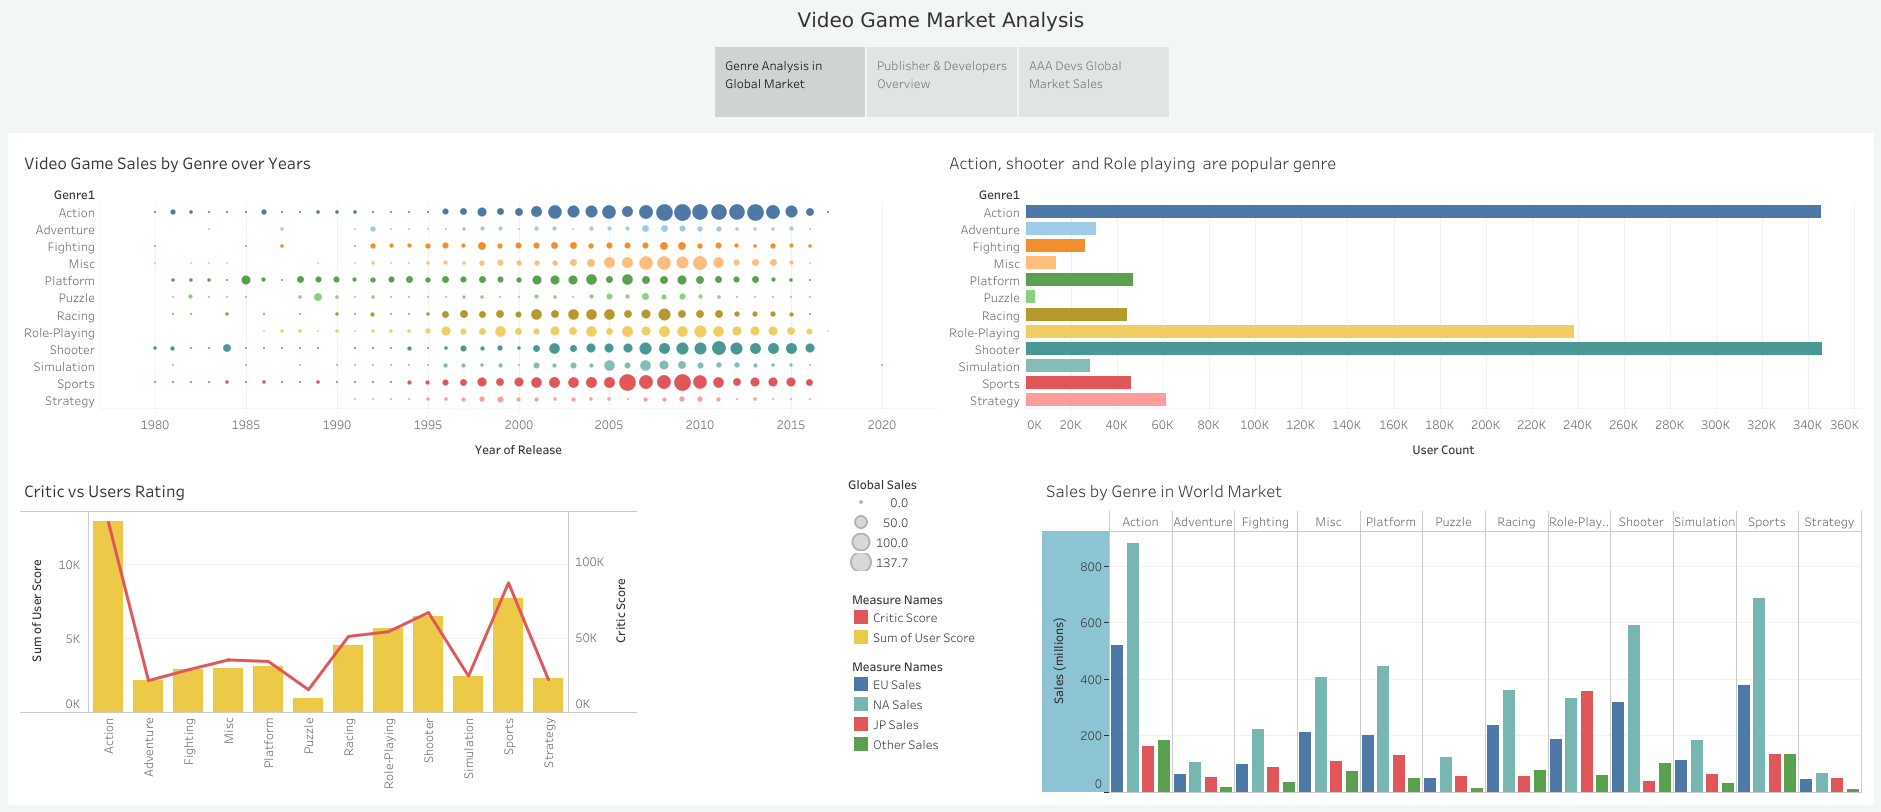

The page's visual inventory and layout, read from the dashboard file:
{"tool":"tableau","page":{"name":"Dashboard 1","canvas":[1000,1000],"units":"permille","ordinal":0},"visuals":[{"type":"worksheet","box":[0,0,1000,1000]},{"type":"worksheet","param":"horz","box":[4.8,8.8,990.3,982.4]},{"type":"worksheet","box":[4.8,8.8,990.3,982.4]},{"type":"worksheet","title":"Saleby GenreYears","mark":"Shape","rows":["Genre"],"cols":["Year_of_Release"],"box":[4.8,8.8,495.2,491.1]},{"type":"worksheet","title":"Users per Genre","mark":"Automatic","rows":["Genre"],"cols":["User_Count"],"box":[500,8.8,495.2,491.1]},{"type":"worksheet","title":"CriticVUsers","mark":"Line","rows":["User_Score","Critic_Score"],"cols":["Genre"],"box":[4.8,499.9,442.9,491.3]},{"type":"worksheet","title":"Saleby GenreYears","mark":"Shape","rows":["Genre"],"cols":["Year_of_Release"],"param":"[federated.1otucu51eeyddd1bluqfx1tcpcxh].[sum:Global_Sales:qk]","box":[447.8,499.9,104.4,166.4]},{"type":"worksheet","title":"Sales by Genre","mark":"Automatic","cols":["Genre"],"box":[552.2,499.9,443,491.3]},{"type":"worksheet","param":"vert","box":[447.8,666.3,104.4,324.9]},{"type":"worksheet","title":"CriticVUsers","mark":"Line","rows":["User_Score","Critic_Score"],"cols":["Genre"],"param":"[federated.1otucu51eeyddd1bluqfx1tcpcxh].[:Measure Names]","box":[450.2,670.7,99.6,26.3]},{"type":"worksheet","title":"Sales by Genre","mark":"Automatic","cols":["Genre"],"param":"[federated.1otucu51eeyddd1bluqfx1tcpcxh].[:Measure Names]","box":[450.2,697,99.6,125.1]}]}

Visuals, with their boxes on the dashboard's canvas, which has no fixed pixel size, in thousandths of its width and height (x1, y1, x2, y2). These are canvas units, not pixel positions in the 1881x812 screenshot, which may show the page scaled, cropped or inside an application window:
worksheet: 0 0 1000 1000
worksheet: 5 9 995 991
worksheet: 5 9 995 991
"Saleby GenreYears" worksheet (Shape marks): 5 9 500 500
"Users per Genre" worksheet: 500 9 995 500
"CriticVUsers" worksheet (Line marks): 5 500 448 991
"Saleby GenreYears" worksheet (Shape marks): 448 500 552 666
"Sales by Genre" worksheet: 552 500 995 991
worksheet: 448 666 552 991
"CriticVUsers" worksheet (Line marks): 450 671 550 697
"Sales by Genre" worksheet: 450 697 550 822
